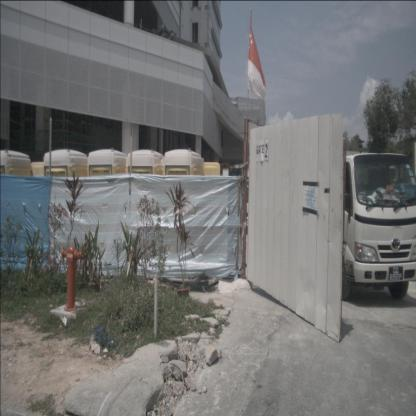vehicle-truck: (258, 153, 416, 300)
